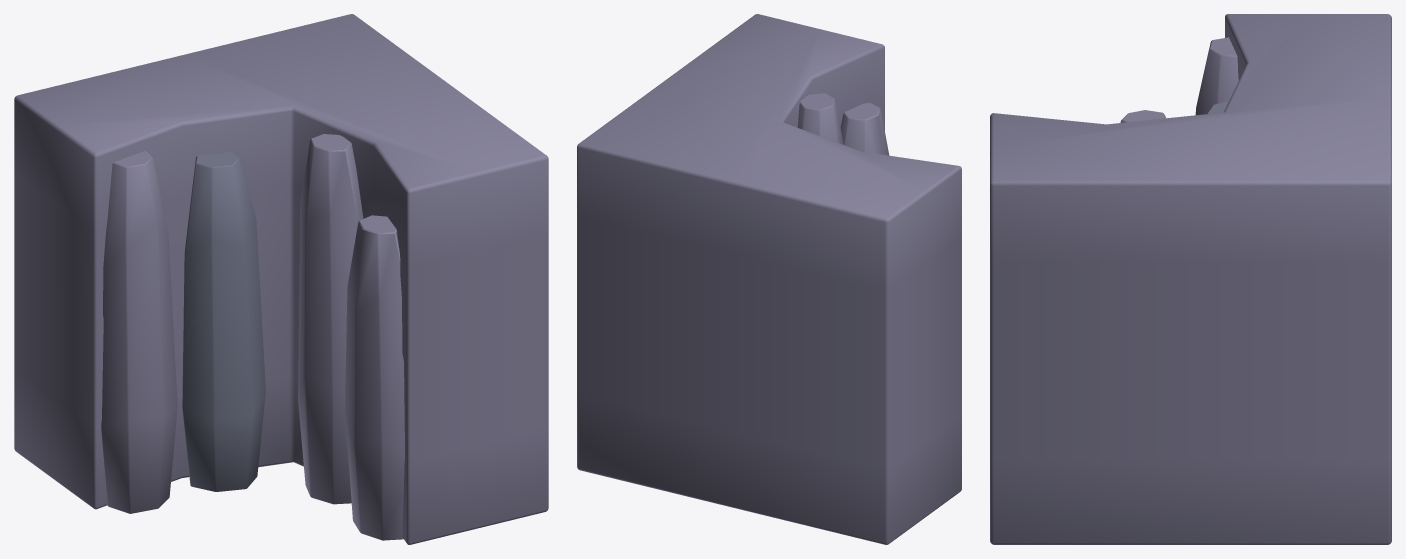
File: cliff_rock_side_inner_corner_01.glb
The picture shows the model from 3 angles, left to right: view 1: azimuth 30°, elevation 25°; view 2: azimuth 150°, elevation 25°; view 3: azimuth 270°, elevation 25°; orthographic projection. The views are drawn at different scales.
Visible parts, largest first — view 1: cliff_rock_side_inner_corner_01; view 2: cliff_rock_side_inner_corner_01; view 3: cliff_rock_side_inner_corner_01.
Part boxes in pixels (<box>): cliff_rock_side_inner_corner_01: <box>14,14,548,544</box>; cliff_rock_side_inner_corner_01: <box>577,14,961,544</box>; cliff_rock_side_inner_corner_01: <box>990,14,1391,544</box>.
Bounding box in the file's own units: 1 × 1 × 1.
